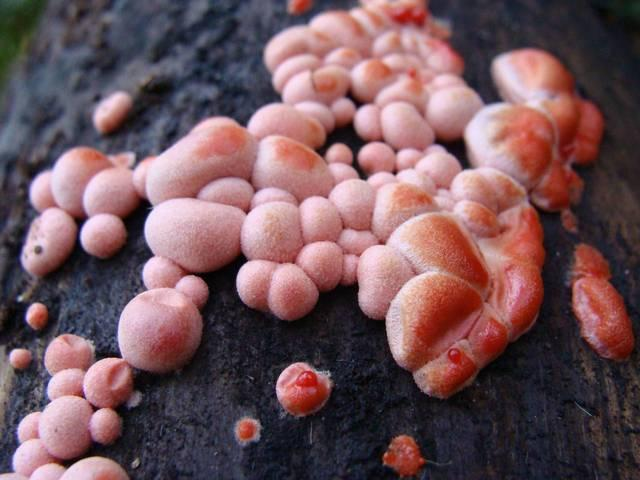poisonous_mushroom: (1, 0, 634, 477), (355, 166, 545, 399), (116, 286, 203, 373), (569, 273, 635, 361), (274, 360, 333, 417), (380, 433, 451, 479)
